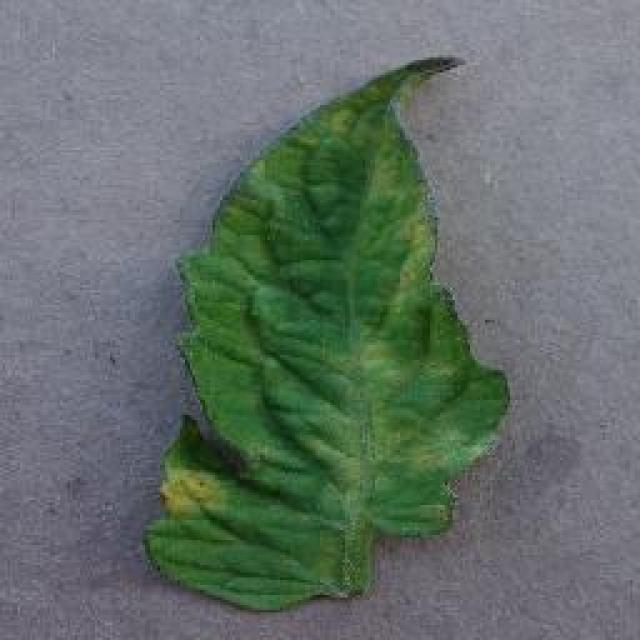Tomato___Leaf_Mold: (140, 58, 510, 615)
